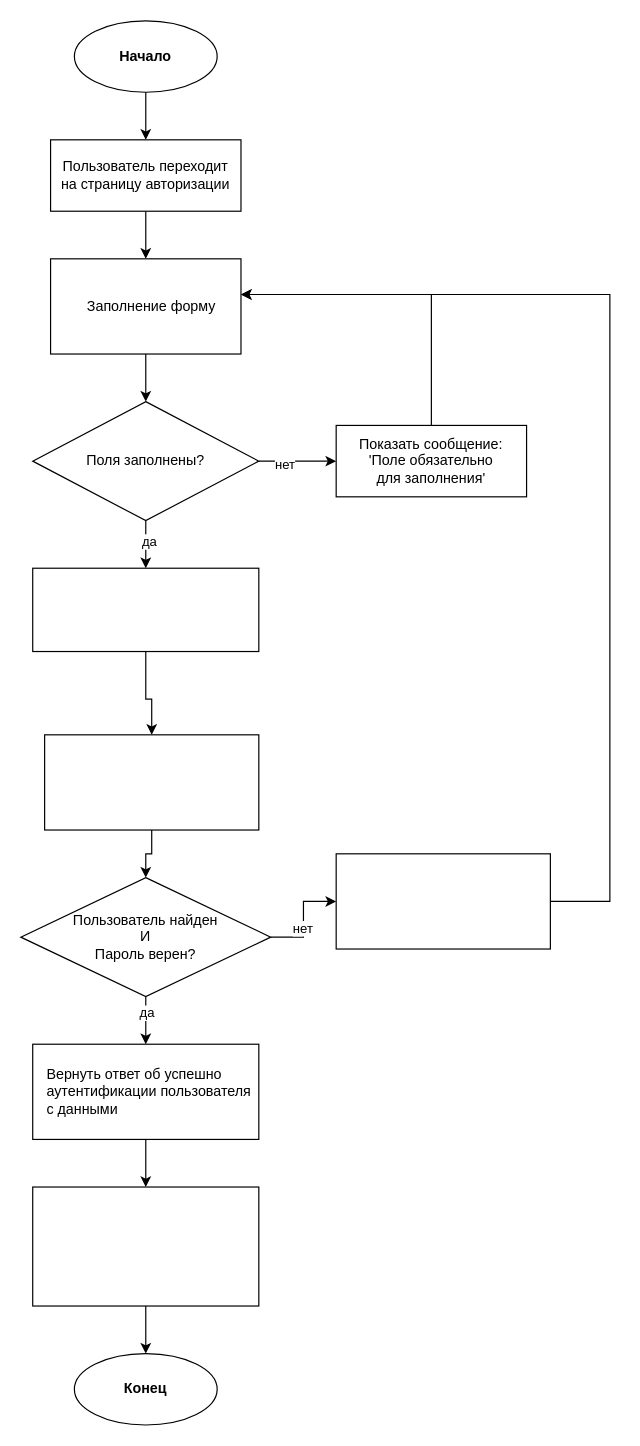
Some shapes in this 640 by 1446 pixel diagram are drawn without their labels. Each missing label, with the centre of its shape:
"Вернуть ошибку: 'Неверное имя пользователя или пароль'" goes at [442,901].
"Запрос к серверной части API" goes at [145,609].
"Поиск пользователя с username" goes at [151,782].
"Сохранить данные пользователя Перенаправить на страницу личного кабинета" goes at [145,1246].
